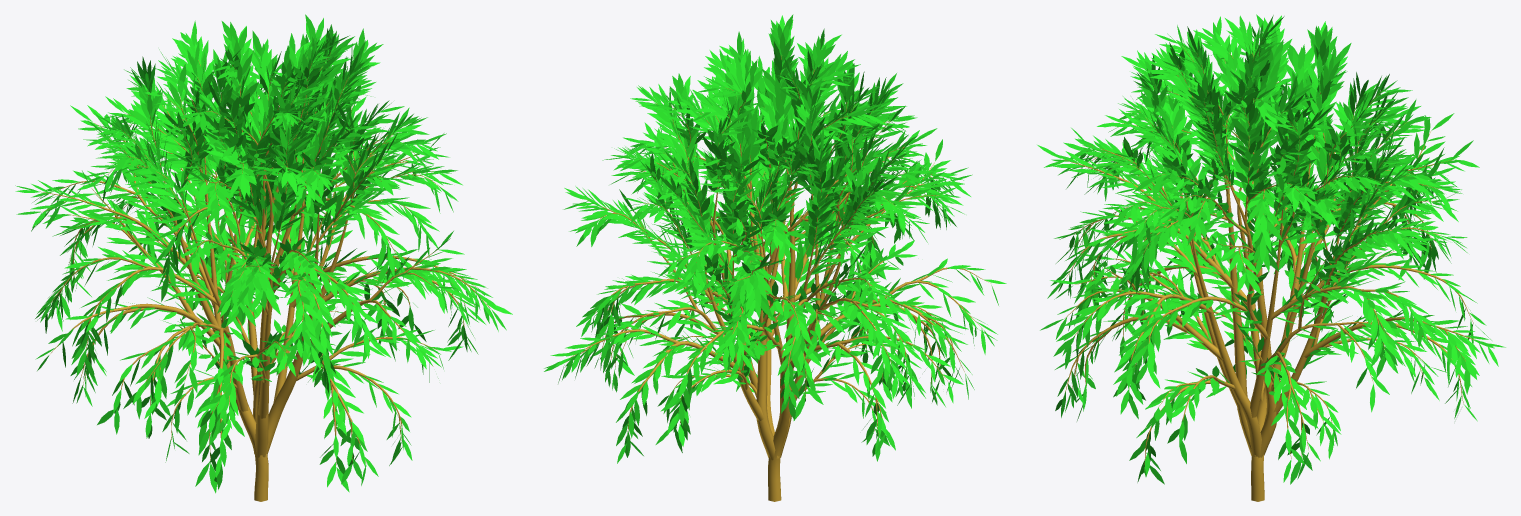
Rendered from tree.fbx.
3 renders of one model, left to right at view 1: azimuth 30°, elevation 25°; view 2: azimuth 150°, elevation 25°; view 3: azimuth 270°, elevation 25°, orthographic. The views are drawn at different scales.
Visible parts, largest first — view 1: leaves, tree; view 2: leaves, tree; view 3: leaves, tree.
Part boxes in pixels (box(x1,y1,x2,y2)): leaves: box(15, 14, 512, 493); tree: box(40, 52, 490, 501); leaves: box(544, 14, 1006, 463); tree: box(565, 55, 990, 501); leaves: box(1037, 14, 1505, 484); tree: box(1063, 39, 1474, 501).
Bounding box in the file's own units: 578 × 682 × 605.
